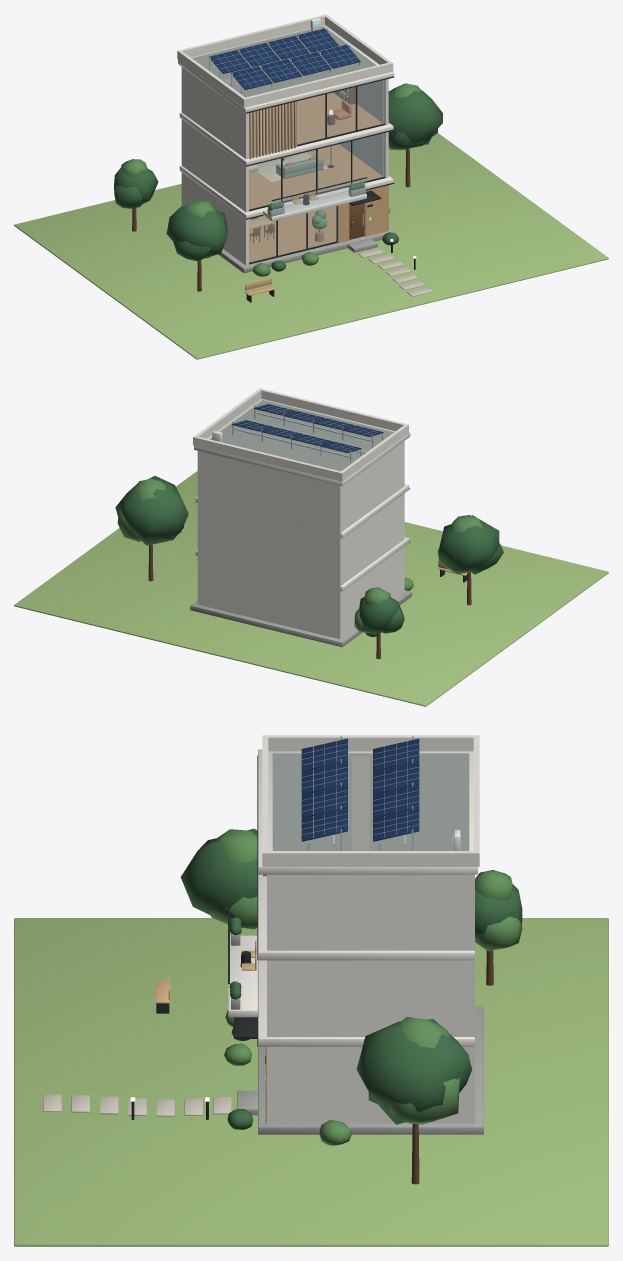
The model's file is 智慧住宅.glb.
3 renders of one model, top to bottom at view 1: azimuth 30°, elevation 25°; view 2: azimuth 150°, elevation 25°; view 3: azimuth 270°, elevation 25°, orthographic. The views are drawn at different scales.
Parts seen in each view (by area): view 1: 庭院｜草地, 住宅｜左側牆, 二樓｜落地玻璃, 屋頂｜太陽能板, 屋頂｜女兒牆, 三樓｜落地玻璃, 住宅｜2F木地板, 一樓｜落地玻璃, 住宅｜1F木地板, 住宅｜3F木地板, 屋頂｜礫石面, 庭院｜大樹B｜樹冠0 (+21 smaller); view 2: 庭院｜草地, 住宅｜後牆, 住宅｜左側牆, 屋頂｜礫石面, 屋頂｜女兒牆, 庭院｜大樹B｜樹冠0, 庭院｜大樹A｜樹冠0, 屋頂｜太陽能板, 住宅｜清水模基座, 住宅｜屋頂樓板, 庭院｜小樹C｜樹冠0, 屋頂｜太陽能支架 (+4 smaller); view 3: 庭院｜草地, 住宅｜右側牆, 屋頂｜礫石面, 屋頂｜太陽能板, 屋頂｜女兒牆, 庭院｜大樹B｜樹冠0, 住宅｜清水模基座, 庭院｜大樹A｜樹冠0, 住宅｜屋頂樓板, 住宅｜樓板3F, 庭院｜石板步道, 住宅｜樓板2F (+10 smaller).
Boxes of the visible parts, x1=… form: 庭院｜草地: x1=14, y1=133, x2=608, y2=359; 住宅｜左側牆: x1=181, y1=67, x2=248, y2=265; 二樓｜落地玻璃: x1=249, y1=133, x2=384, y2=209; 屋頂｜太陽能板: x1=209, y1=28, x2=360, y2=89; 屋頂｜女兒牆: x1=177, y1=14, x2=393, y2=107; 三樓｜落地玻璃: x1=297, y1=80, x2=384, y2=144; 住宅｜2F木地板: x1=249, y1=144, x2=382, y2=209; 一樓｜落地玻璃: x1=249, y1=206, x2=336, y2=262; 住宅｜1F木地板: x1=249, y1=206, x2=335, y2=262; 住宅｜3F木地板: x1=297, y1=92, x2=382, y2=144; 屋頂｜礫石面: x1=192, y1=26, x2=376, y2=97; 庭院｜大樹B｜樹冠0: x1=388, y1=89, x2=442, y2=144; 庭院｜草地: x1=14, y1=471, x2=608, y2=706; 住宅｜後牆: x1=197, y1=451, x2=340, y2=638; 住宅｜左側牆: x1=337, y1=441, x2=404, y2=639; 屋頂｜礫石面: x1=210, y1=400, x2=394, y2=471; 屋頂｜女兒牆: x1=193, y1=388, x2=408, y2=481; 庭院｜大樹B｜樹冠0: x1=115, y1=476, x2=188, y2=545; 庭院｜大樹A｜樹冠0: x1=438, y1=515, x2=499, y2=572; 屋頂｜太陽能板: x1=232, y1=404, x2=383, y2=452; 住宅｜清水模基座: x1=190, y1=590, x2=411, y2=647; 住宅｜屋頂樓板: x1=194, y1=398, x2=410, y2=485; 庭院｜小樹C｜樹冠0: x1=359, y1=597, x2=398, y2=633; 屋頂｜太陽能支架: x1=232, y1=405, x2=382, y2=463; 庭院｜草地: x1=14, y1=918, x2=608, y2=1246; 住宅｜右側牆: x1=267, y1=874, x2=474, y2=1123; 屋頂｜礫石面: x1=272, y1=753, x2=469, y2=850; 屋頂｜太陽能板: x1=301, y1=738, x2=419, y2=841; 屋頂｜女兒牆: x1=262, y1=735, x2=479, y2=866; 庭院｜大樹B｜樹冠0: x1=356, y1=1019, x2=472, y2=1124; 住宅｜清水模基座: x1=258, y1=1006, x2=483, y2=1134; 庭院｜大樹A｜樹冠0: x1=180, y1=828, x2=257, y2=917; 住宅｜屋頂樓板: x1=258, y1=749, x2=477, y2=874; 住宅｜樓板3F: x1=258, y1=874, x2=474, y2=960; 庭院｜石板步道: x1=43, y1=1094, x2=231, y2=1116; 住宅｜樓板2F: x1=258, y1=960, x2=474, y2=1046.
Size of the model in its own units: 26 by 10.84 by 20.
